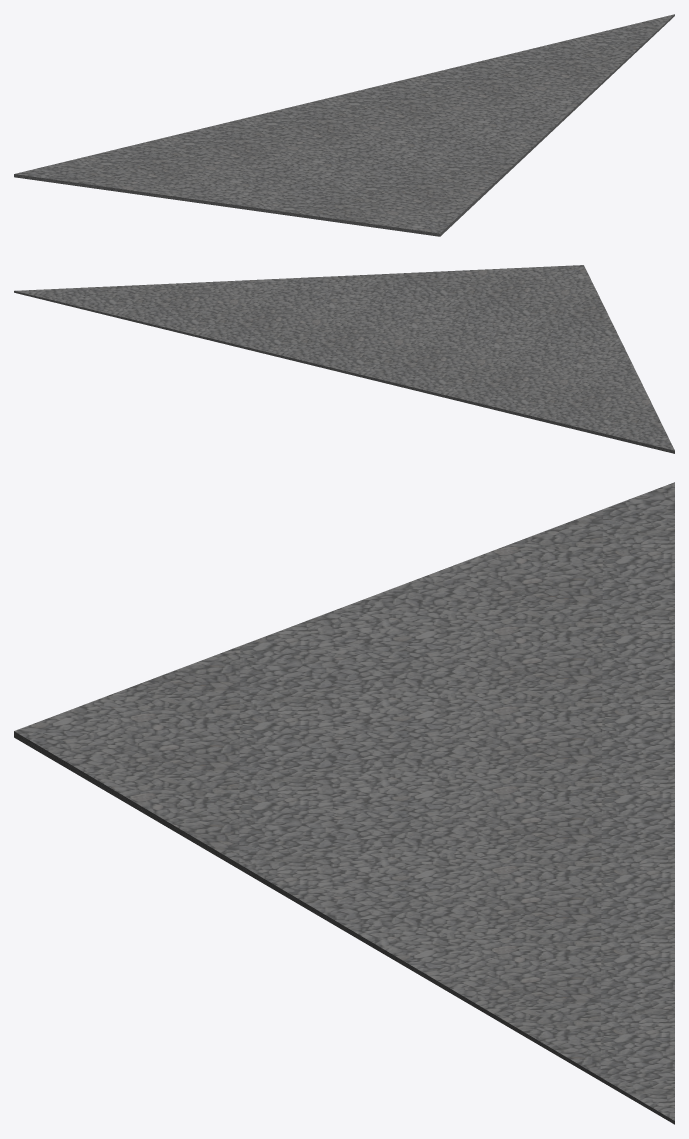
File: floor 1.fbx
The picture shows the model from 3 angles, top to bottom: view 1: azimuth 30°, elevation 25°; view 2: azimuth 150°, elevation 25°; view 3: azimuth 270°, elevation 25°; orthographic projection. The views are drawn at different scales.
Visible parts, largest first — view 1: Cube.470; view 2: Cube.470; view 3: Cube.470.
Boxes of the visible parts, box(x1,y1,x2,y2) form: Cube.470: box(14, 14, 674, 236); Cube.470: box(14, 265, 674, 453); Cube.470: box(14, 482, 674, 1124).
Bounding box in the file's own units: 2308 × 10.79 × 1013.
Materials: 1 (1 with a texture image).
